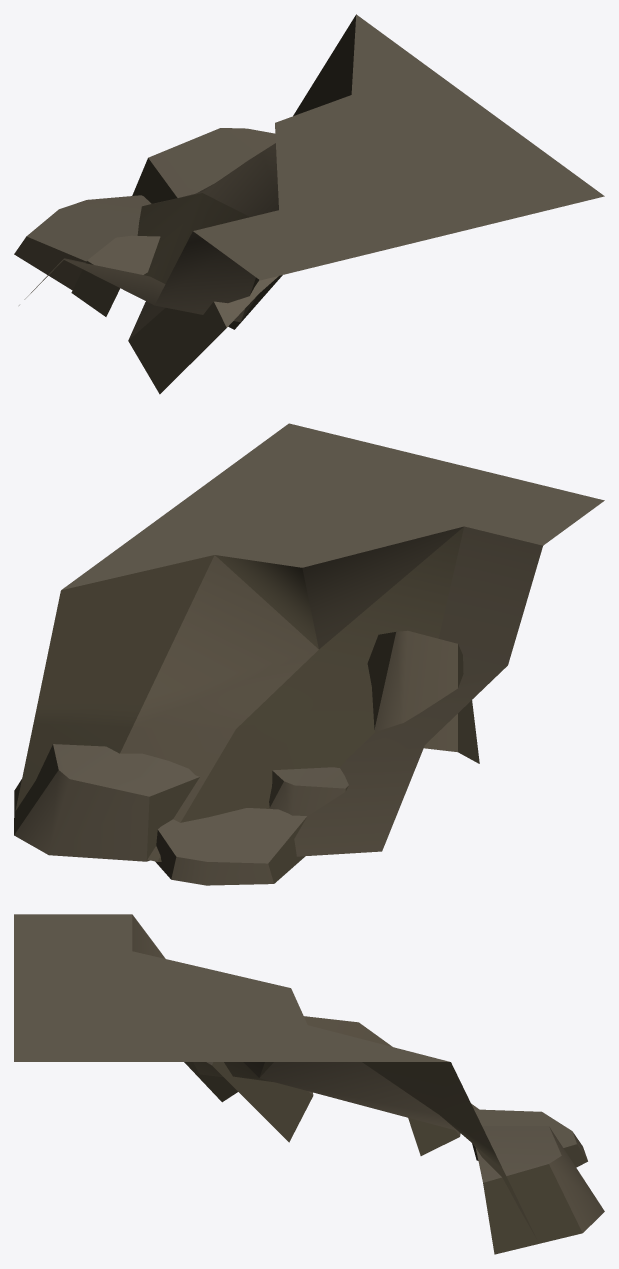
Rendered from SF_Env_RockEdge_Slope_01.fbx.
3 renders of one model, top to bottom at view 1: azimuth 30°, elevation 25°; view 2: azimuth 150°, elevation 25°; view 3: azimuth 270°, elevation 25°, orthographic. The views are drawn at different scales.
Parts seen in each view (by area): view 1: SF_Env_RockEdge_Slope_01; view 2: SF_Env_RockEdge_Slope_01; view 3: SF_Env_RockEdge_Slope_01.
Part boxes in pixels (x1=…): SF_Env_RockEdge_Slope_01: x1=14, y1=14, x2=604, y2=394; SF_Env_RockEdge_Slope_01: x1=14, y1=423, x2=604, y2=885; SF_Env_RockEdge_Slope_01: x1=14, y1=914, x2=604, y2=1254.
Size of the model in its own units: 10.75 by 5.82 by 16.91.
